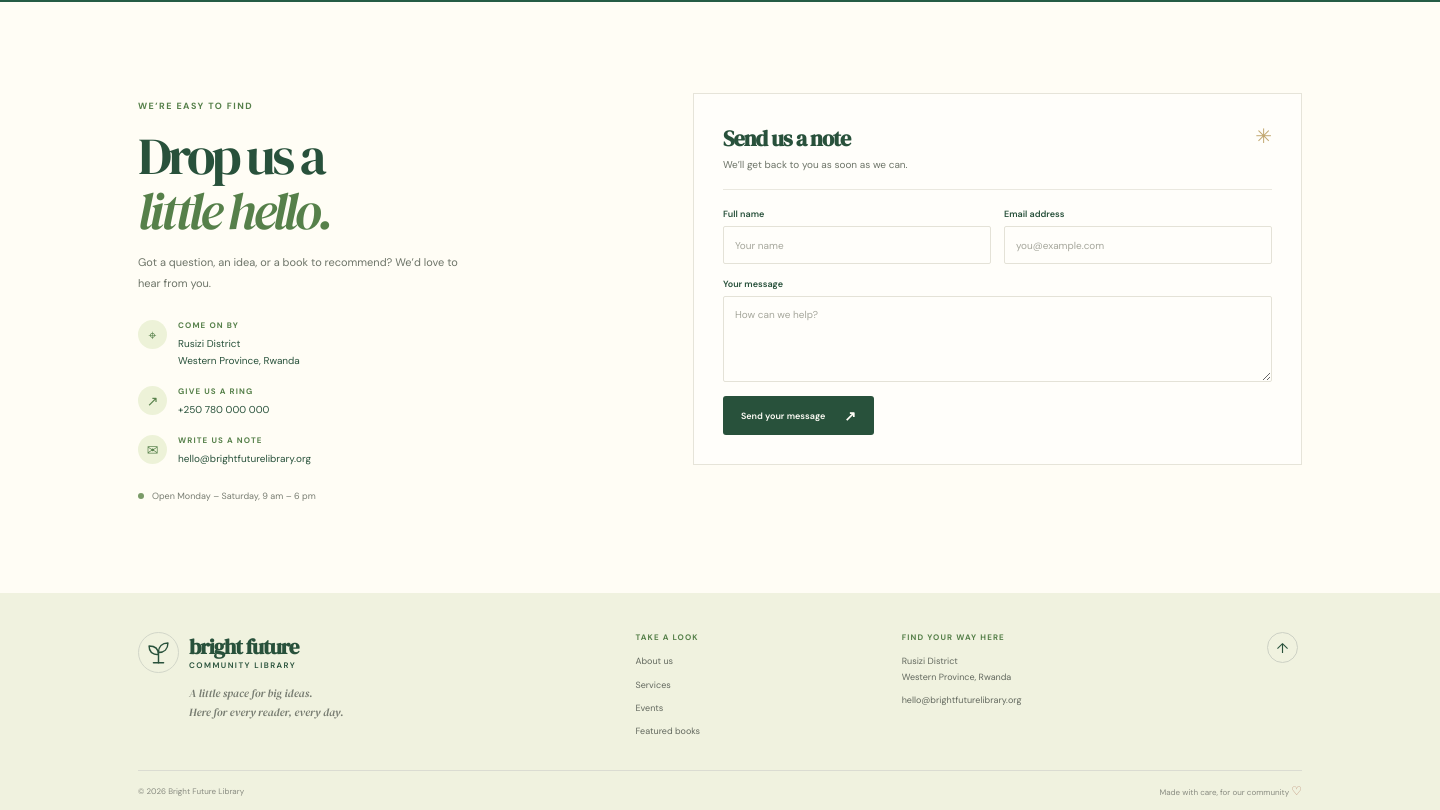
Test: validates the contact form and reports successful submission
(page scrolled)
Click the button "Send your message ↗" at [798, 416], box [723,396,874,435]
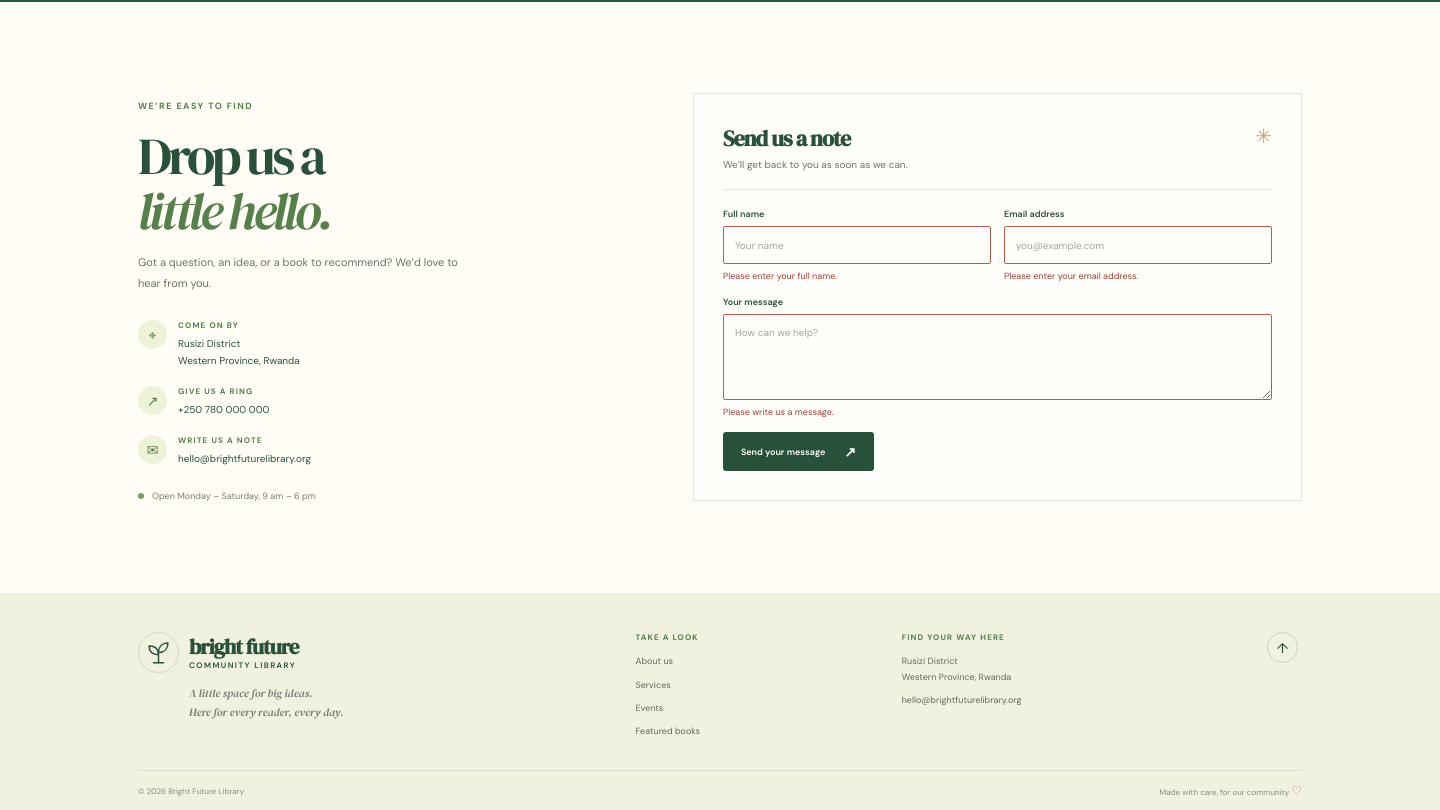
expect the text "Please enter your full name." is shown: met, box [723,270,837,282]
expect the text "Please enter your email address." is shown: met, box [1004,270,1138,282]
expect the text "Please write us a message." is shown: met, box [723,406,834,418]
Type "Taylor Reader" into the field labelled "Full name Please enter your full name." at [857, 245], box [723,226,991,264]
Type "not-an-email" into the field labelled "Email address Please enter your email address." at [1138, 245], box [1004,226,1272,264]
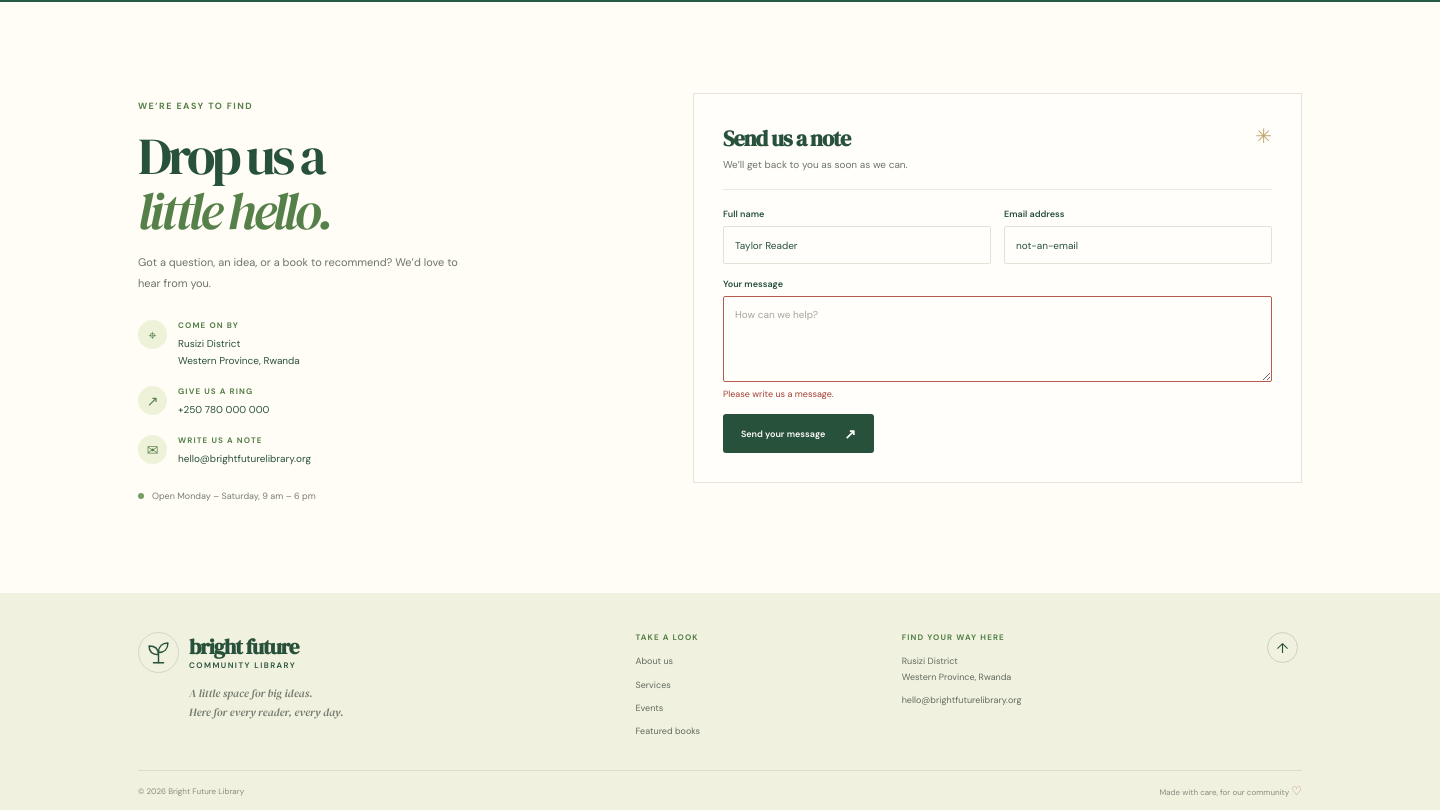
Type "Hello, library!" into the text box labelled "Your message Please write us a message." at [997, 339], box [723,296,1272,382]
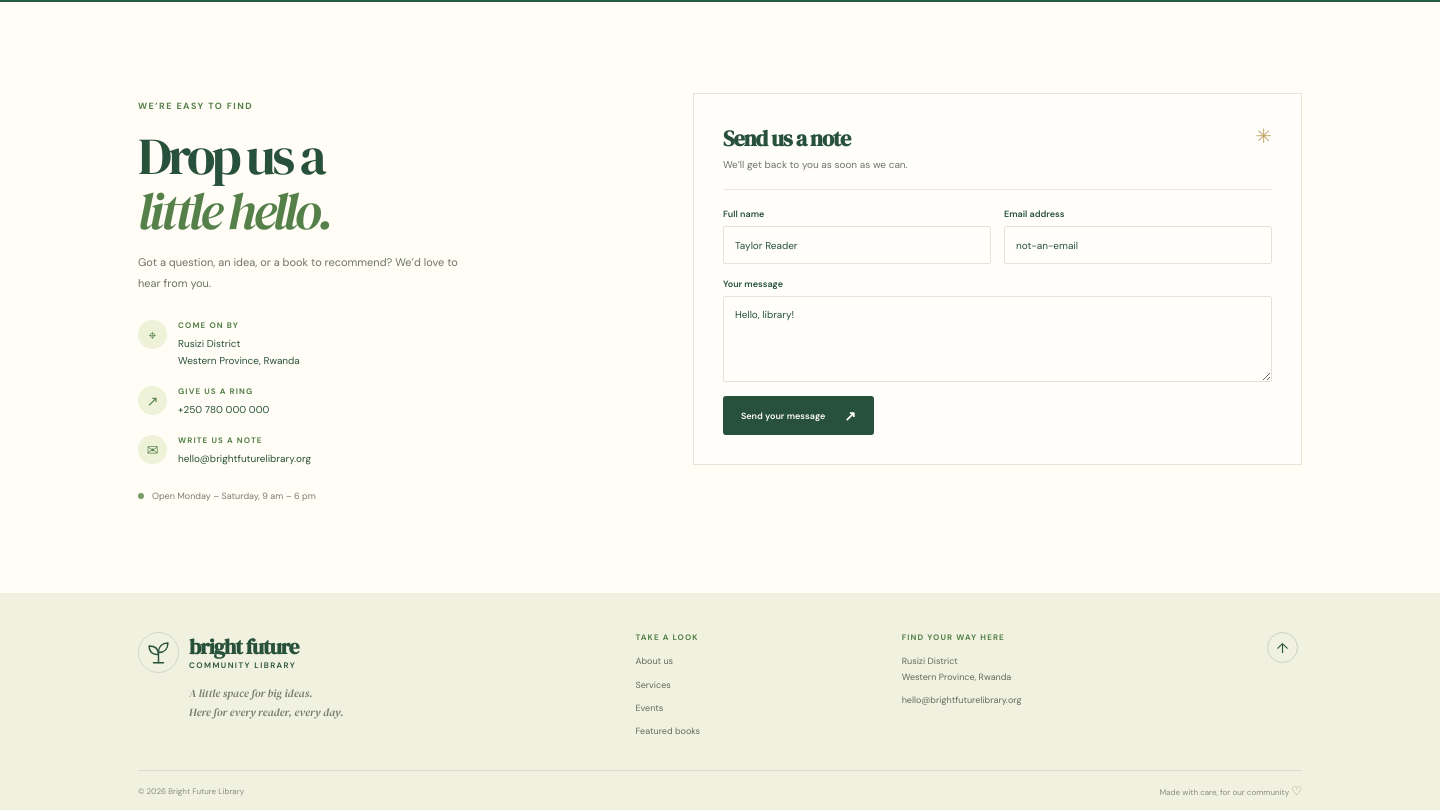
Click the button "Send your message ↗" at [798, 416], box [723,396,874,435]
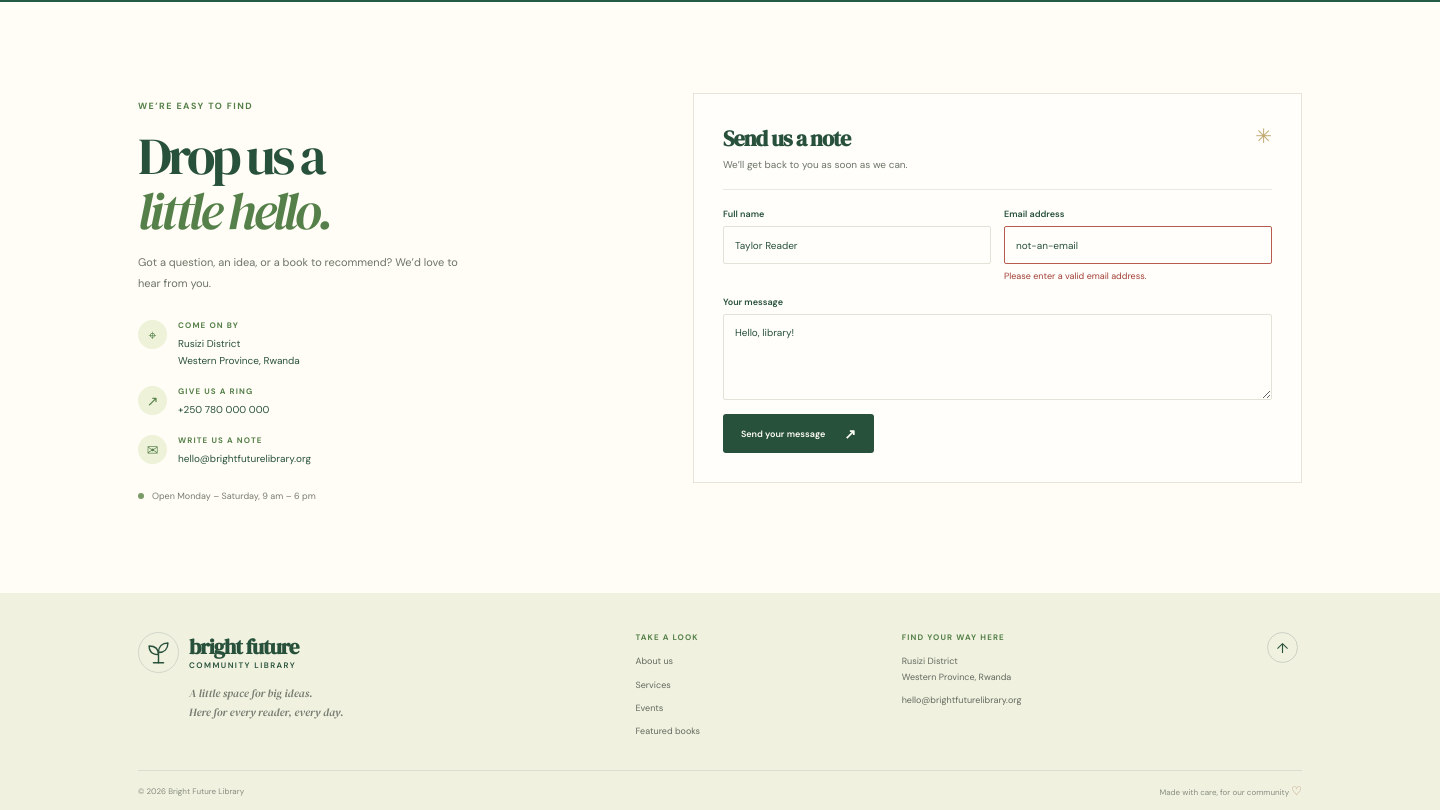
expect the text "thanks for reaching out" is not shown: met
expect the text "Please enter a valid email address." is shown: met, box [1004,270,1146,282]
Replace the text in the field labelled "Email address Please enter a valid email address." with "taylor@example.com" at [1138, 245], box [1004,226,1272,264]
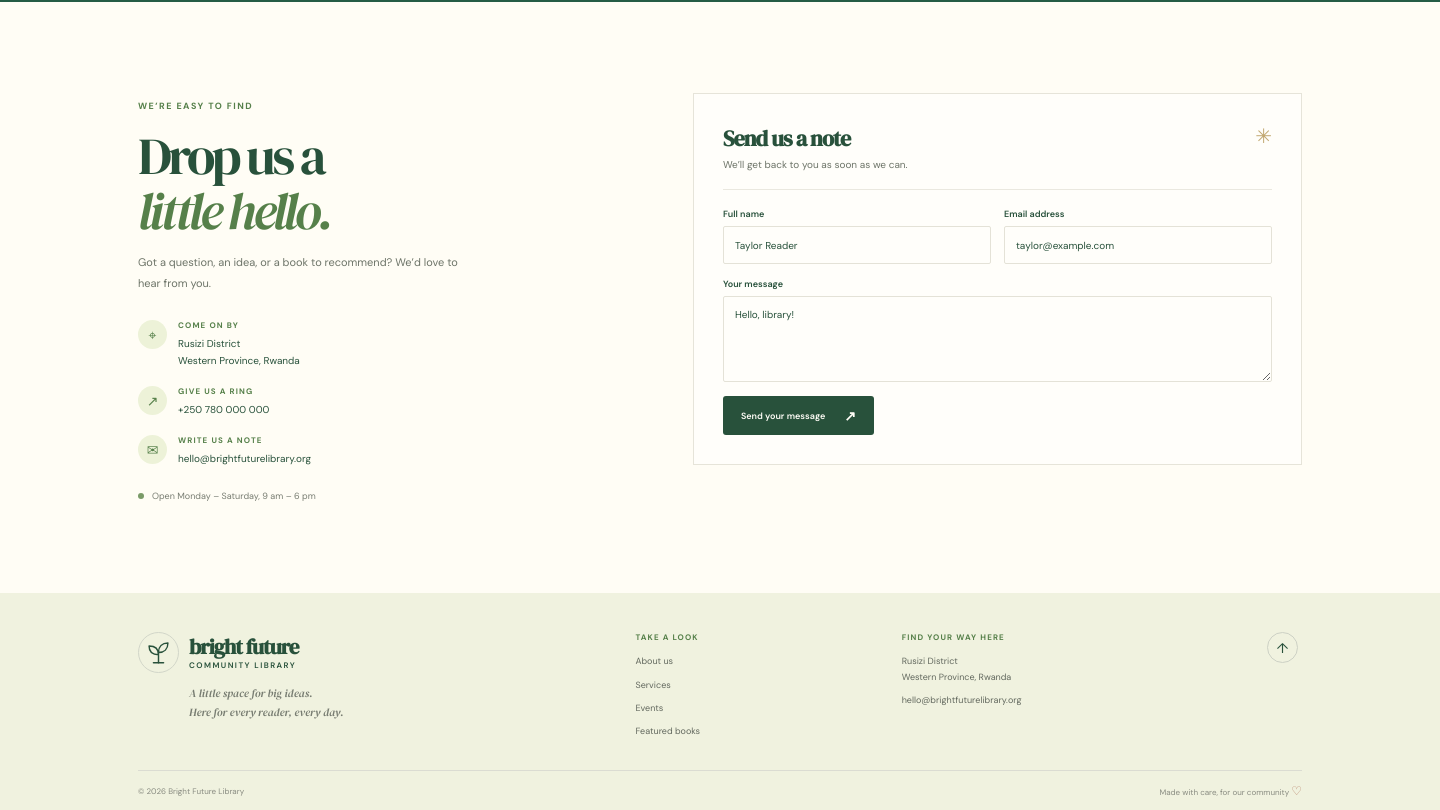
Click the button "Send your message ↗" at [798, 416], box [723,396,874,435]
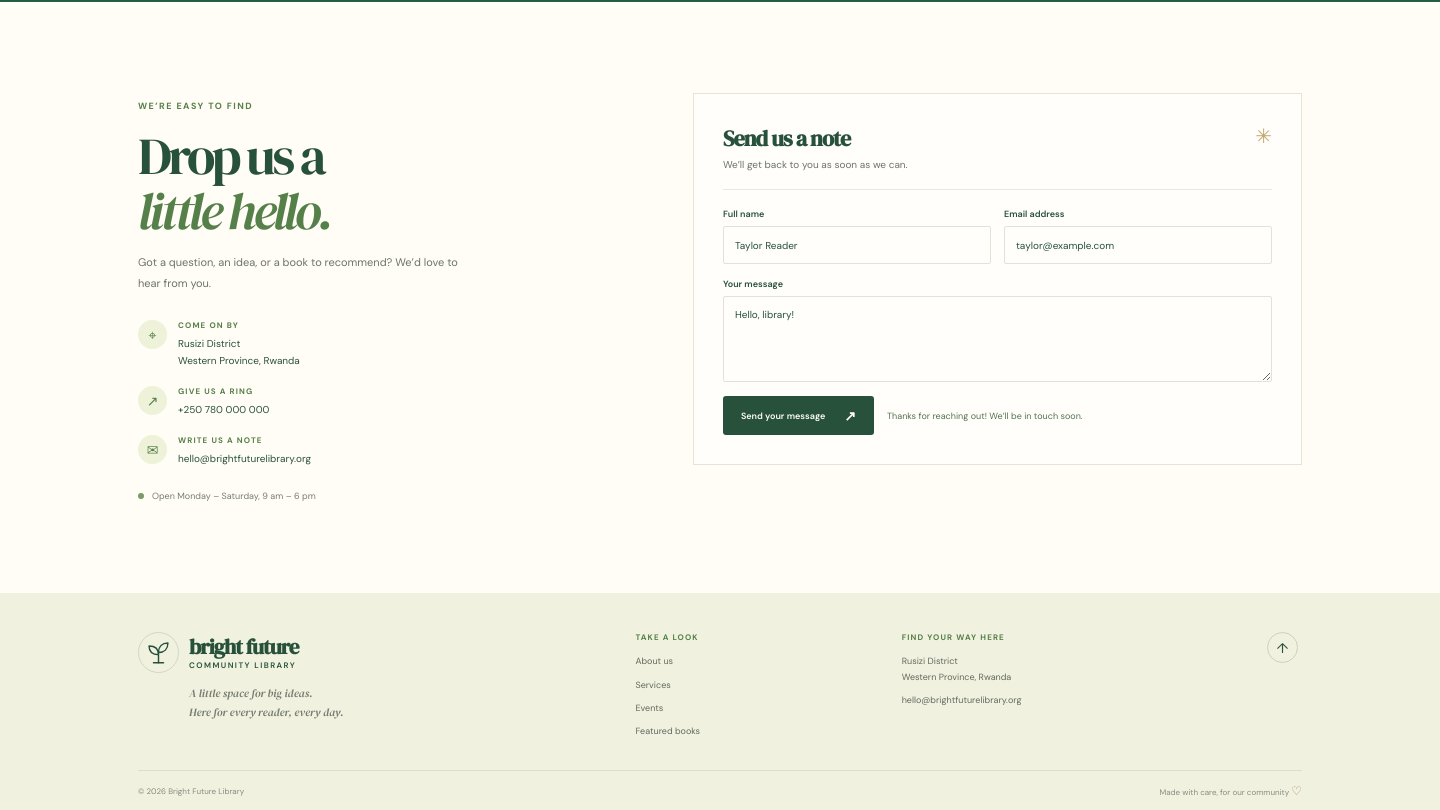
expect the message shows "Thanks for reaching out": met, box [887,410,1083,422]
